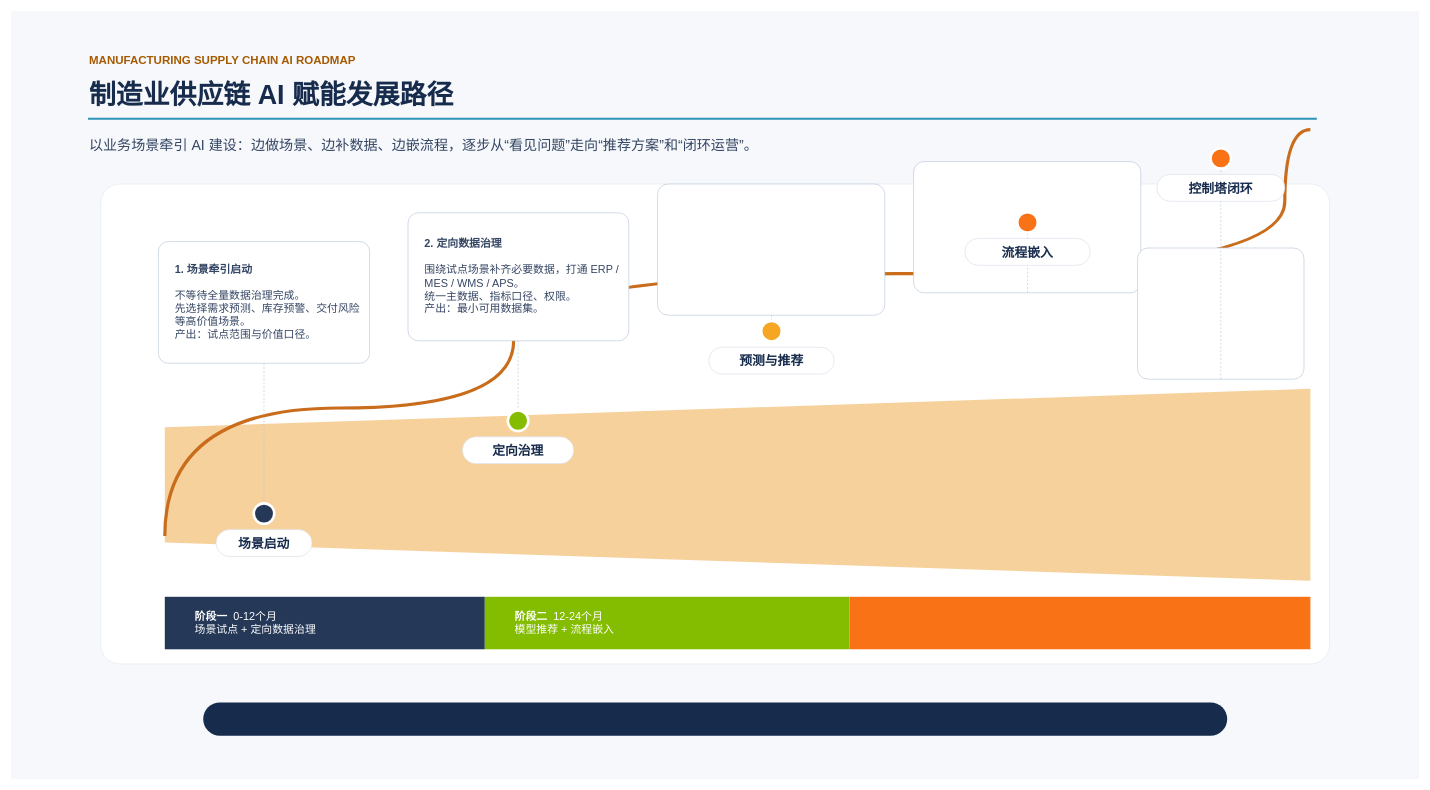
This 1430x790 diagram has some shape labels left out. Each missing label, with the box of its shape:
3. 模型预测与推荐 从“发现风险”升级为“给建议”。 供需匹配、WIP 周期预测、产能瓶颈、MRO 备件优化。 产出：风险排序与推荐方案。: (657, 183, 885, 315)
4. 流程嵌入与协同 AI 建议进入真实业务动作：计划评审、采购催交、库存调拨、异常处理和跨部门协同。 产出：人审执行与流程留痕。: (913, 161, 1141, 293)
5. 控制塔闭环 统一监控订单、库存、产能、供应商和交付风险。 AI 推荐，人类审批，系统执行。 产出：结果回流、持续优化。: (1137, 247, 1304, 379)
共同机制：业务场景提出数据需求 → 定向治理 → 模型验证 → 流程嵌入 → 结果回流形成数据资产: (203, 702, 1227, 735)
阶段三 24-36个月 Agent 协同 + AI 控制塔闭环: (849, 596, 1310, 649)
